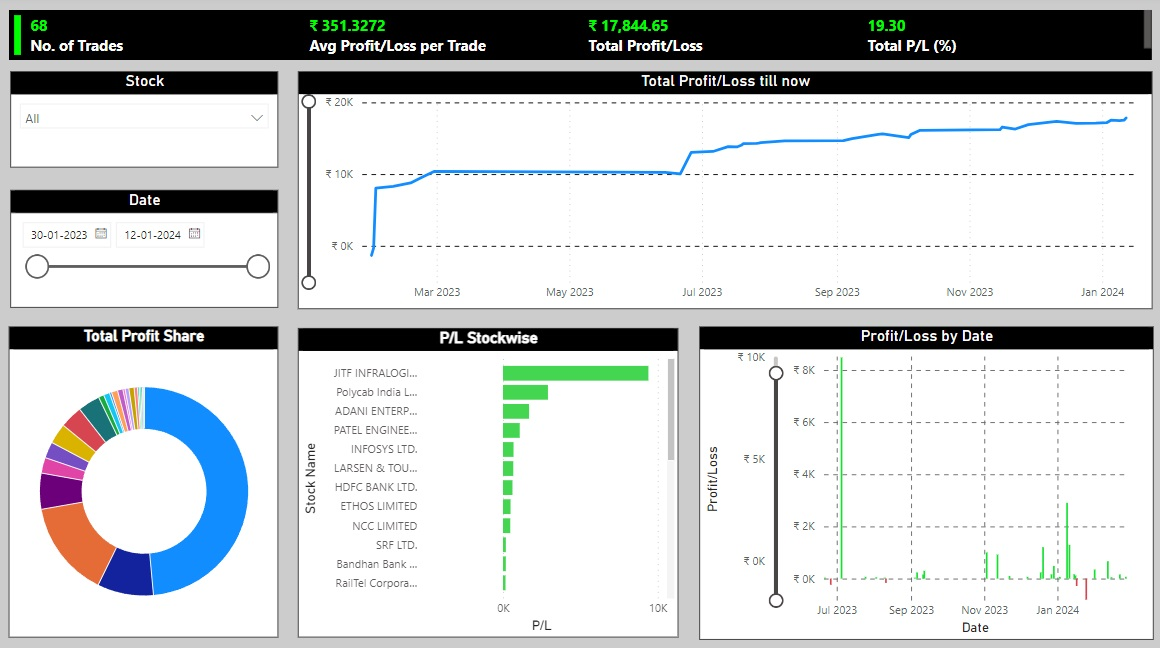

This screenshot's page, from the dashboard's own definition file:
{"tool":"powerbi","page":{"name":"Profit/Loss Analysis","canvas":[1280,720],"ordinal":1},"visuals":[{"type":"multiRowCard","fields":{"Values":["Sheet1.No of Trades","Sheet1.Avg profit/Loss per Trade","Sheet1.Total Realized Profit/Loss","Sum(Sheet1.Realised P/L (%))"]},"box":[25.1,16.1,1236.9,53.7],"z":0},{"type":"lineChart","title":"Total Profit/Loss till now","fields":{"Category":["Sheet1.DATE"],"Y":["Sheet1.CumulativeProfitLoss"]},"box":[337.5,82.1,925,257.1],"z":1000},{"type":"donutChart","title":"Total Profit Share","fields":{"Category":["Sheet1.Scrip Name"],"Y":["Sum(Sheet1.Realised P/L (%))","Sum(Sheet1.Realized P/L)"]},"box":[24.5,359.2,291.8,336.7],"z":2000},{"type":"slicer","title":"Stock","fields":{"Values":["Sheet1.Scrip Name"]},"box":[26.9,82.3,290,103.8],"z":3000},{"type":"slicer","title":"Date","fields":{"Values":["Sheet1.DATE"]},"box":[26.9,211.2,290,127.1],"z":4000},{"type":"clusteredColumnChart","title":"Profit/Loss by Date","fields":{"Category":["Sheet1.Sell date"],"Y":["Sheet1.Total Realized Profit/Loss"]},"box":[771.4,359.2,491.8,338.8],"z":5000},{"type":"clusteredBarChart","title":"P/L Stockwise","fields":{"Category":["Sheet1.Scrip Name"],"Y":["Sum(Sheet1.Realized P/L)"]},"box":[336.7,359.2,412.2,334.7],"z":6000}]}

Visuals, with their boxes in screenshot pixels (x1, y1, x2, y2), scaled from the page's 1280x720 canvas onto the 1160x648 screenshot:
multiRowCard - Sheet1.No of Trades x Sheet1.Avg profit/Loss per Trade: (x1=23, y1=14, x2=1144, y2=63)
"Total Profit/Loss till now" lineChart: (x1=306, y1=74, x2=1144, y2=305)
"Total Profit Share" donutChart: (x1=22, y1=323, x2=287, y2=626)
"Stock" slicer: (x1=24, y1=74, x2=287, y2=167)
"Date" slicer: (x1=24, y1=190, x2=287, y2=304)
"Profit/Loss by Date" clusteredColumnChart: (x1=699, y1=323, x2=1145, y2=628)
"P/L Stockwise" clusteredBarChart: (x1=305, y1=323, x2=679, y2=625)
